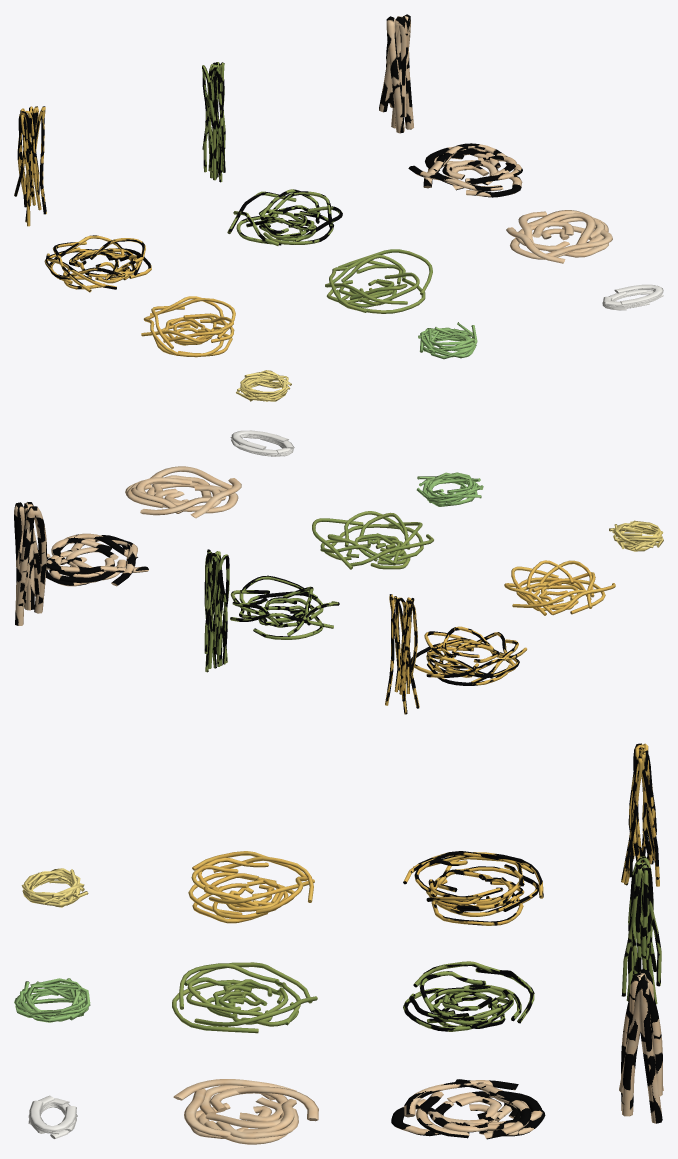
Rendered from Phase3_Noodles_P2P3.glb.
3 renders of one model, top to bottom at view 1: azimuth 30°, elevation 25°; view 2: azimuth 150°, elevation 25°; view 3: azimuth 270°, elevation 25°, orthographic. The views are drawn at different scales.
Visible parts, largest first — view 1: WideRiceNoodle_Bed_B, WideRiceNoodle_Bed_A, VeggieNoodleNest_Bed_A, VeggieNoodleNest_Bed_B, EggNoodle_Bed_B, EggNoodle_Bed_A, WideRiceNoodle_Lift, EggNoodle_Lift, VeggieNoodleNest_Lift, VeggieNoodleNest_Raw, EggNoodle_Raw, WideRiceNoodle_Raw; view 2: WideRiceNoodle_Bed_A, VeggieNoodleNest_Bed_A, WideRiceNoodle_Bed_B, EggNoodle_Bed_B, VeggieNoodleNest_Bed_B, WideRiceNoodle_Lift, EggNoodle_Bed_A, VeggieNoodleNest_Lift, EggNoodle_Lift, VeggieNoodleNest_Raw, EggNoodle_Raw, WideRiceNoodle_Raw; view 3: WideRiceNoodle_Bed_B, WideRiceNoodle_Bed_A, VeggieNoodleNest_Bed_A, EggNoodle_Bed_B, EggNoodle_Bed_A, VeggieNoodleNest_Bed_B, WideRiceNoodle_Lift, VeggieNoodleNest_Lift, EggNoodle_Lift, VeggieNoodleNest_Raw, EggNoodle_Raw, WideRiceNoodle_Raw.
Part boxes in pixels (x1=…): WideRiceNoodle_Bed_B: x1=408, y1=143, x2=522, y2=197; WideRiceNoodle_Bed_A: x1=506, y1=210, x2=612, y2=263; VeggieNoodleNest_Bed_A: x1=325, y1=249, x2=432, y2=313; VeggieNoodleNest_Bed_B: x1=227, y1=189, x2=342, y2=245; EggNoodle_Bed_B: x1=44, y1=235, x2=151, y2=292; EggNoodle_Bed_A: x1=141, y1=296, x2=235, y2=357; WideRiceNoodle_Lift: x1=379, y1=14, x2=413, y2=133; EggNoodle_Lift: x1=14, y1=106, x2=46, y2=226; VeggieNoodleNest_Lift: x1=202, y1=62, x2=225, y2=182; VeggieNoodleNest_Raw: x1=418, y1=322, x2=477, y2=359; EggNoodle_Raw: x1=236, y1=370, x2=291, y2=401; WideRiceNoodle_Raw: x1=602, y1=284, x2=663, y2=310; WideRiceNoodle_Bed_A: x1=125, y1=466, x2=241, y2=518; VeggieNoodleNest_Bed_A: x1=312, y1=511, x2=433, y2=569; WideRiceNoodle_Bed_B: x1=45, y1=533, x2=148, y2=586; EggNoodle_Bed_B: x1=410, y1=626, x2=527, y2=685; VeggieNoodleNest_Bed_B: x1=230, y1=575, x2=339, y2=639; WideRiceNoodle_Lift: x1=14, y1=502, x2=46, y2=625; EggNoodle_Bed_A: x1=504, y1=560, x2=615, y2=615; VeggieNoodleNest_Lift: x1=204, y1=549, x2=229, y2=672; EggNoodle_Lift: x1=385, y1=594, x2=419, y2=714; VeggieNoodleNest_Raw: x1=416, y1=472, x2=483, y2=506; EggNoodle_Raw: x1=609, y1=520, x2=663, y2=551; WideRiceNoodle_Raw: x1=230, y1=430, x2=294, y2=456; WideRiceNoodle_Bed_B: x1=391, y1=1079, x2=545, y2=1139; WideRiceNoodle_Bed_A: x1=173, y1=1079, x2=318, y2=1144; VeggieNoodleNest_Bed_A: x1=172, y1=962, x2=317, y2=1033; EggNoodle_Bed_B: x1=403, y1=851, x2=543, y2=925; EggNoodle_Bed_A: x1=188, y1=851, x2=314, y2=923; VeggieNoodleNest_Bed_B: x1=403, y1=961, x2=534, y2=1031; WideRiceNoodle_Lift: x1=619, y1=969, x2=663, y2=1123; VeggieNoodleNest_Lift: x1=621, y1=856, x2=661, y2=1004; EggNoodle_Lift: x1=621, y1=743, x2=659, y2=886; VeggieNoodleNest_Raw: x1=14, y1=978, x2=90, y2=1022; EggNoodle_Raw: x1=21, y1=868, x2=88, y2=907; WideRiceNoodle_Raw: x1=28, y1=1095, x2=77, y2=1138.
Bounding box in the file's own units: 0.5563 × 0.1396 × 0.5298.
6 materials, 6 textured.
